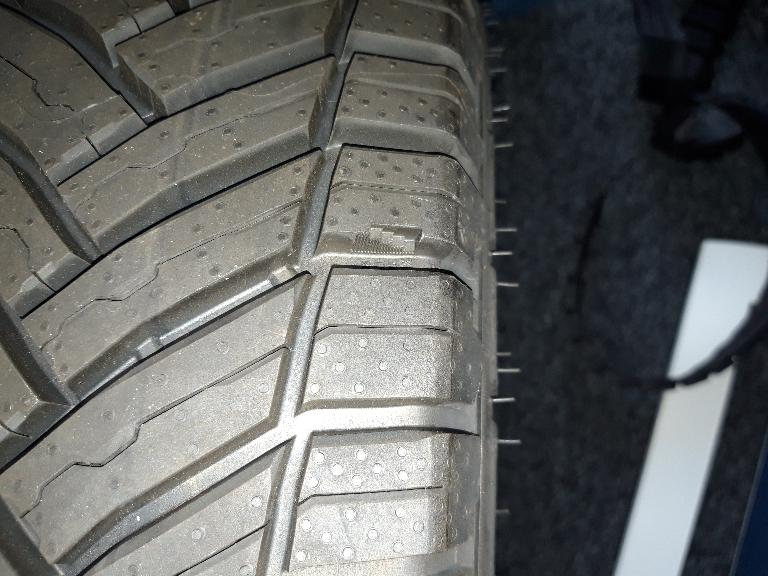temoin:100: (350, 222, 425, 258)
